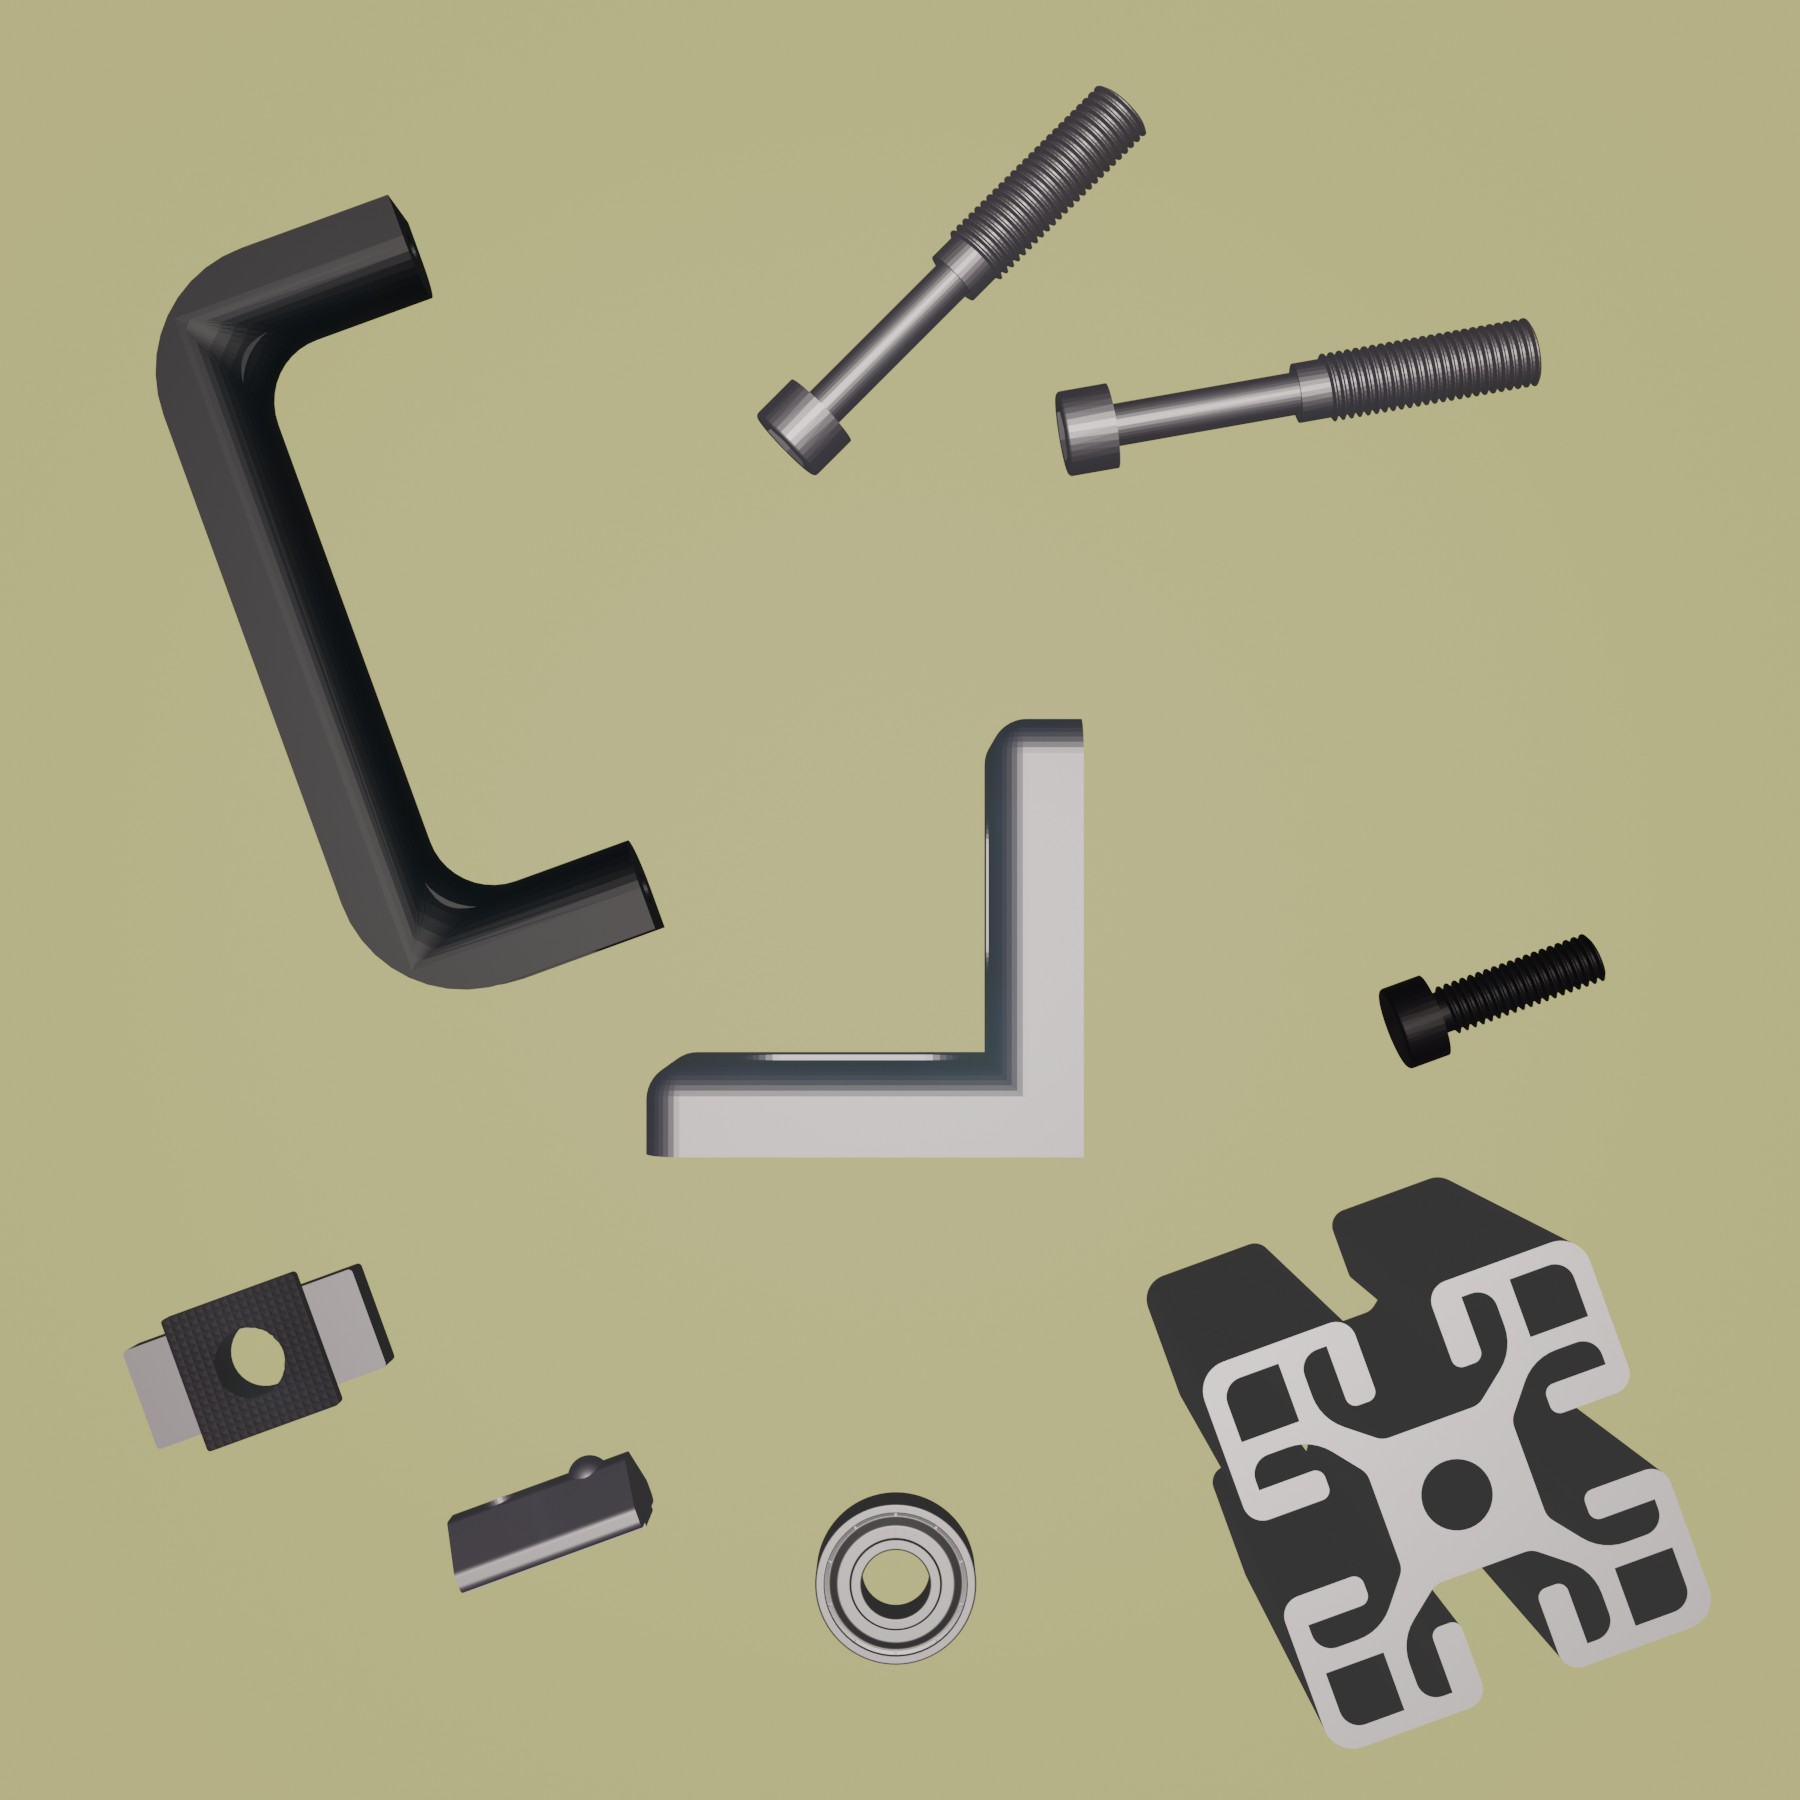Aluminium Extension: (1144, 1175, 1714, 1749)
Ball Bearing: (813, 1488, 979, 1670)
Multiwinkel: (641, 715, 1091, 1165)
Pull Handle: (152, 191, 668, 992)
Shoulder Socket Head Cap Screw: (753, 81, 1151, 476), (1052, 313, 1546, 478)
Socket Head Cap Screw: (1375, 930, 1610, 1070)
T Nut Square: (120, 1259, 401, 1454)
T Spring Nut: (443, 1447, 654, 1599)
